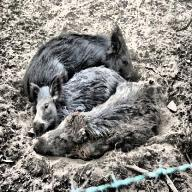boar: (12, 22, 140, 82), (32, 109, 171, 154), (25, 70, 115, 132)
